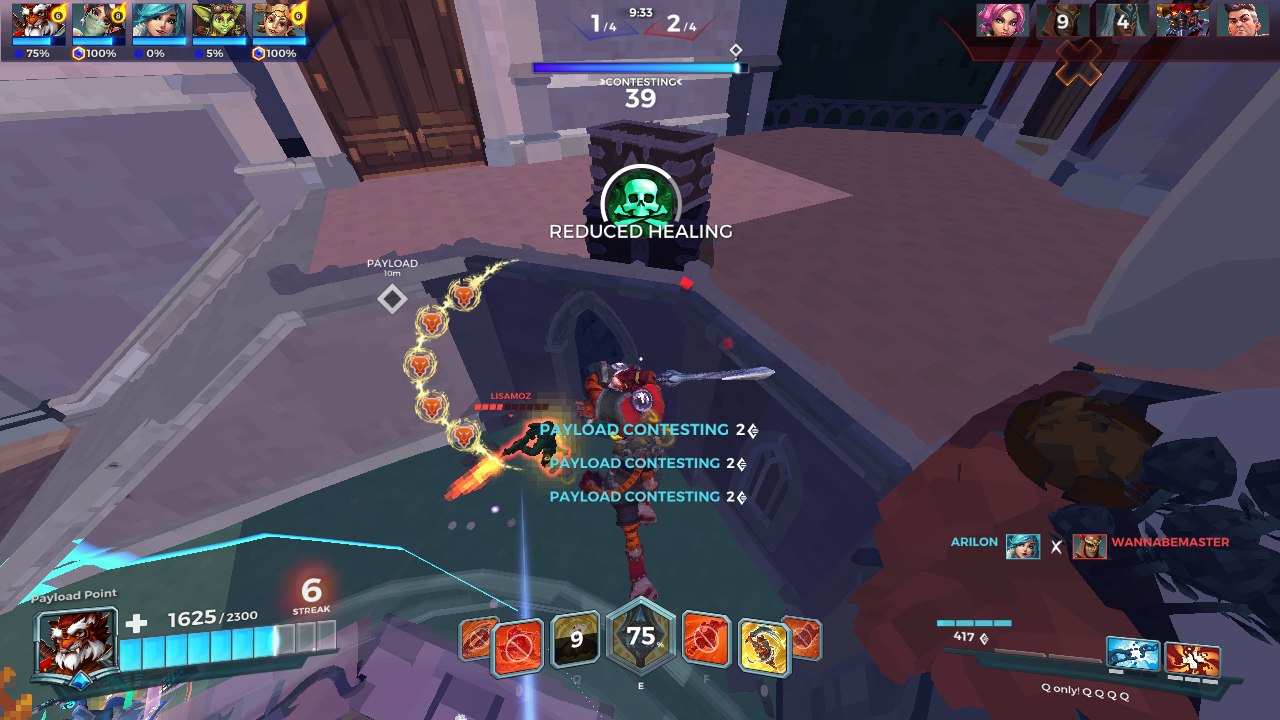model: (495, 418, 575, 478)
